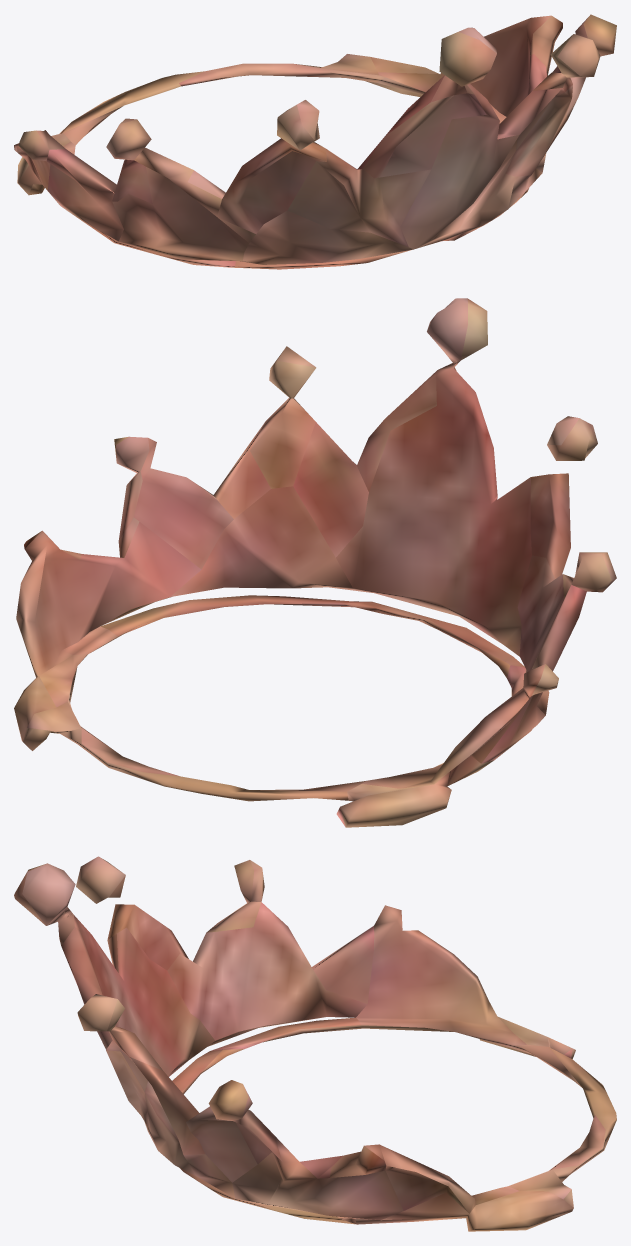
3 views of the same model, one above another, from view 1: azimuth 30°, elevation 25°; view 2: azimuth 150°, elevation 25°; view 3: azimuth 270°, elevation 25° (orthographic). The views are drawn at different scales.
Visible parts, largest first — view 1: Pink-Crown-09; view 2: Pink-Crown-09; view 3: Pink-Crown-09.
Boxes of the visible parts, bbox=[...] form: Pink-Crown-09: bbox=[14, 14, 616, 269]; Pink-Crown-09: bbox=[14, 298, 616, 827]; Pink-Crown-09: bbox=[14, 856, 616, 1231].
Bounding box in the file's own units: 0.279 × 0.1433 × 0.2804.
Materials: 1 (1 with a texture image).
